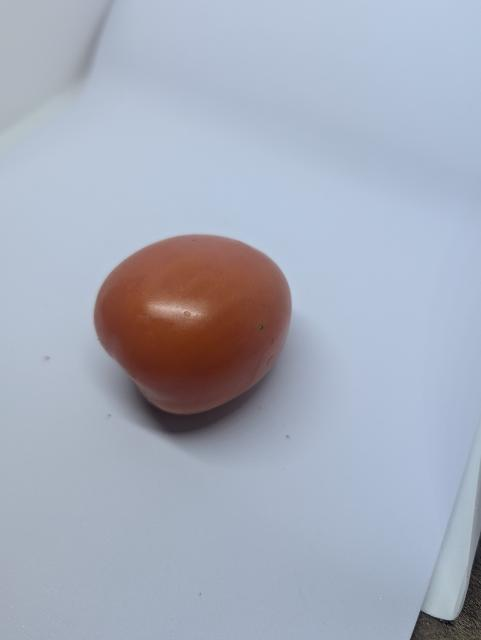red: (70, 221, 325, 452)
